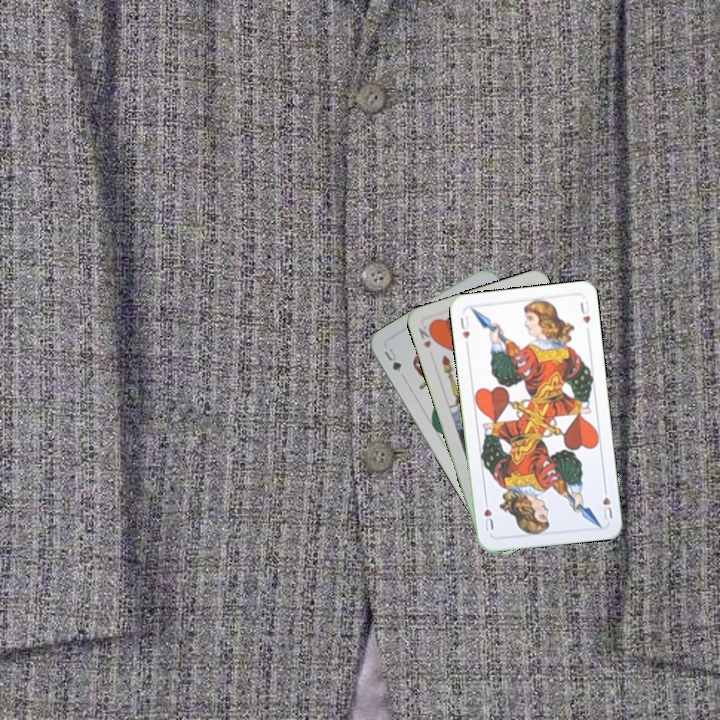GU: (380, 343, 404, 375)
HK: (414, 322, 433, 351)
HU: (599, 483, 615, 522), (456, 312, 472, 349)
